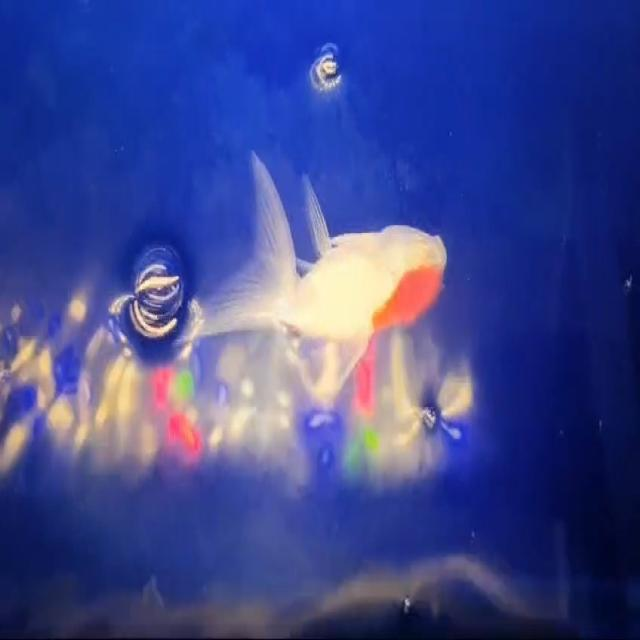fish: (203, 151, 451, 388)
